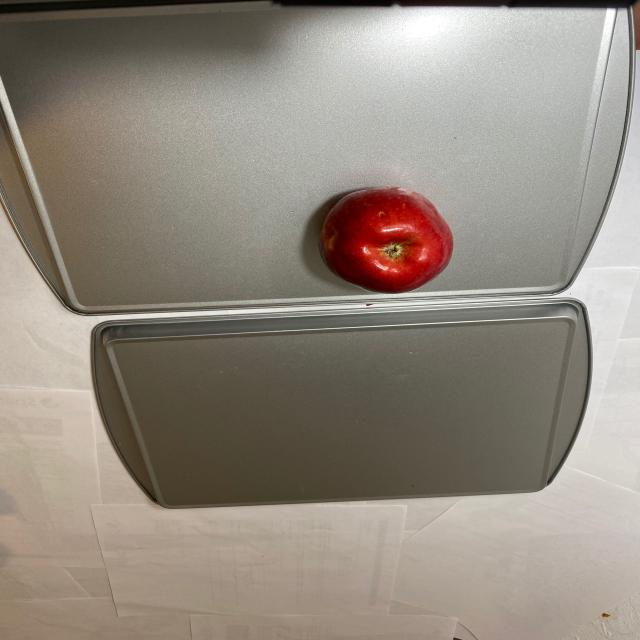apple: (319, 185, 452, 294)
